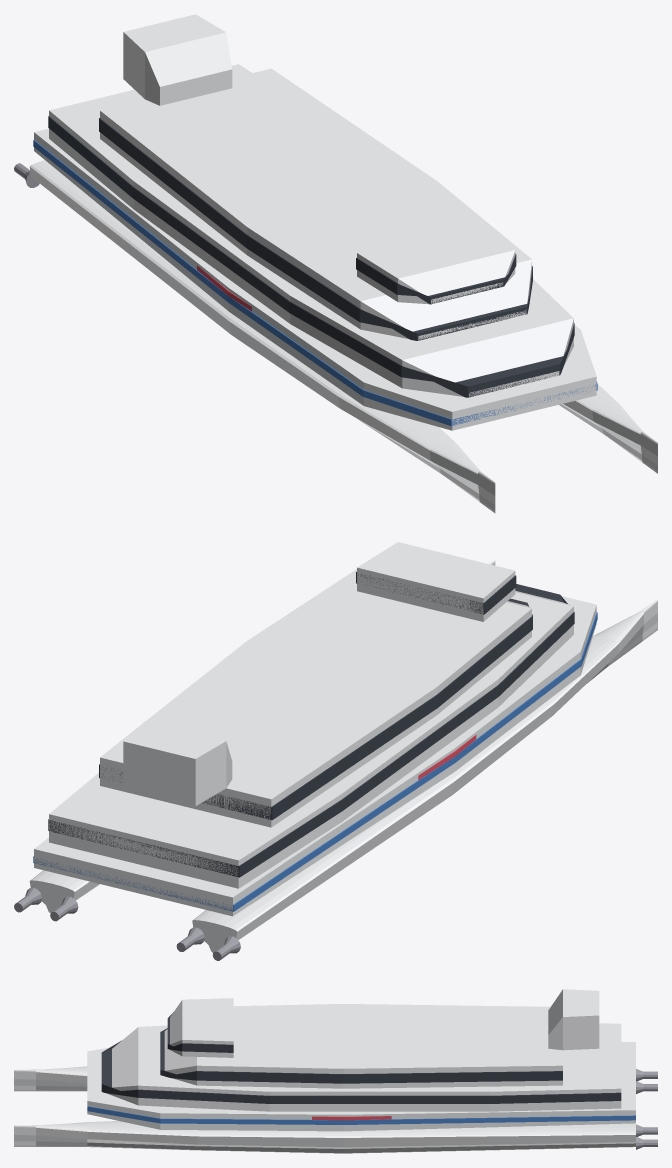
File: barco.glb
The picture shows the model from 3 angles, top to bottom: view 1: azimuth 30°, elevation 25°; view 2: azimuth 150°, elevation 25°; view 3: azimuth 270°, elevation 25°; orthographic projection. The views are drawn at different scales.
Parts seen in each view (by area): view 1: Passenger_Cabin_2, Passenger_Cabin_1, Main_CrossDeck, Hull_Left, Bridge_Wheelhouse, Exhaust_Funnels, Windows_Deck1, Windows_Deck2, Livery_Stripe_Blue, Hull_Right, Windows_Bridge; view 2: Passenger_Cabin_2, Passenger_Cabin_1, Main_CrossDeck, Hull_Left, Bridge_Wheelhouse, Exhaust_Funnels, Windows_Deck1, Windows_Deck2, Livery_Stripe_Blue, Waterjets_Propulsion, Hull_Right, Windows_Bridge; view 3: Passenger_Cabin_2, Hull_Right, Passenger_Cabin_1, Main_CrossDeck, Windows_Deck1, Windows_Deck2, Bridge_Wheelhouse, Livery_Stripe_Blue, Exhaust_Funnels, Hull_Left, Waterjets_Propulsion, Windows_Bridge (+1 smaller).
Boxes of the visible parts, x1,y1,x2,y2 form: Passenger_Cabin_2: (100,68,531,340); Passenger_Cabin_1: (49,64,573,397); Main_CrossDeck: (34,128,596,430); Hull_Left: (29,160,495,513); Bridge_Wheelhouse: (357,222,515,304); Exhaust_Funnels: (123,14,232,105); Windows_Deck1: (48,116,574,397); Windows_Deck2: (99,118,532,340); Livery_Stripe_Blue: (33,140,597,426); Hull_Right: (559,384,657,473); Windows_Bridge: (356,254,516,304); Passenger_Cabin_2: (100,569,531,827); Passenger_Cabin_1: (49,591,573,888); Main_CrossDeck: (34,596,596,916); Hull_Left: (192,599,657,952); Bridge_Wheelhouse: (357,542,515,621); Exhaust_Funnels: (123,721,232,806); Windows_Deck1: (48,584,574,877); Windows_Deck2: (99,598,532,820); Livery_Stripe_Blue: (33,612,597,911); Waterjets_Propulsion: (14,888,240,960); Hull_Right: (29,559,495,913); Windows_Bridge: (356,572,516,614); Passenger_Cabin_2: (164,1004,562,1088); Hull_Right: (14,1121,635,1153); Passenger_Cabin_1: (107,1023,621,1111); Main_CrossDeck: (87,1042,635,1131); Windows_Deck1: (101,1040,621,1103); Windows_Deck2: (160,1028,562,1083); Bridge_Wheelhouse: (169,998,233,1057); Livery_Stripe_Blue: (87,1106,635,1124); Exhaust_Funnels: (548,989,599,1050); Hull_Left: (14,1066,87,1091); Waterjets_Propulsion: (636,1069,657,1149); Windows_Bridge: (167,1012,233,1052).
Bounding box in the file's own units: 25.2 × 18.5 × 88.
